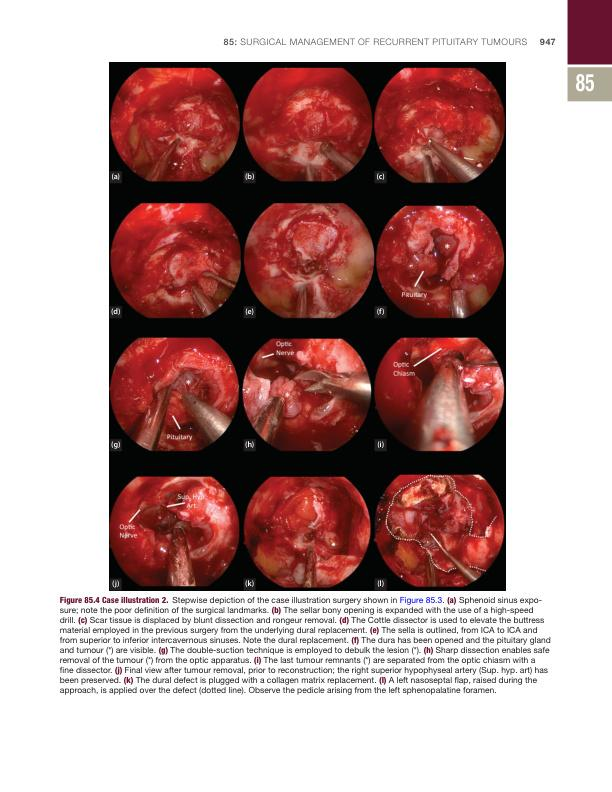caption: (58, 595, 552, 696), (110, 440, 121, 450), (376, 172, 386, 182), (244, 172, 255, 181), (110, 307, 121, 316), (244, 307, 255, 316), (244, 440, 255, 449), (244, 579, 255, 588), (111, 579, 120, 589), (376, 307, 385, 316), (376, 579, 385, 588), (111, 173, 121, 181), (377, 440, 385, 449)
header: (222, 37, 528, 47)
image: (109, 61, 506, 591)
